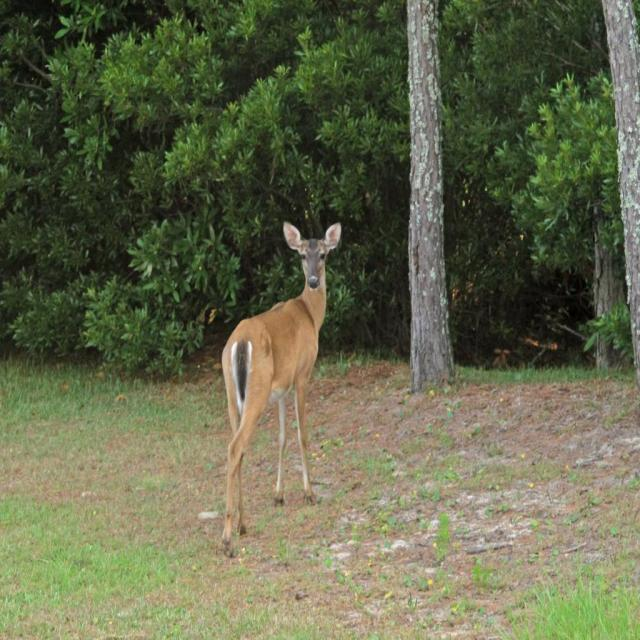Deer: (224, 221, 342, 557)
